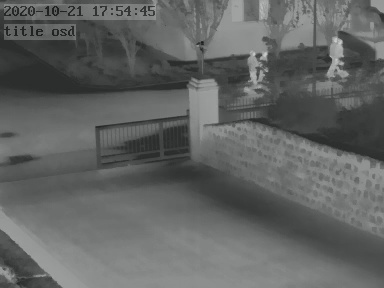person: (329, 33, 347, 76), (249, 51, 260, 87)
